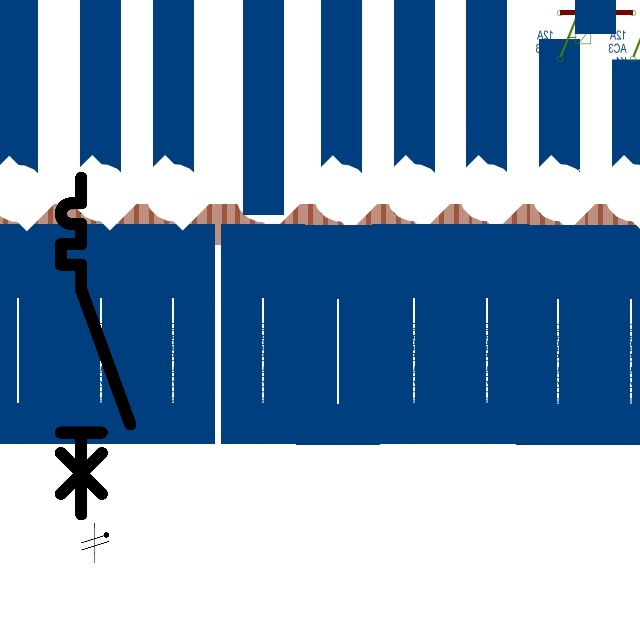interruptor_termomagnetico: (52, 169, 138, 523)
